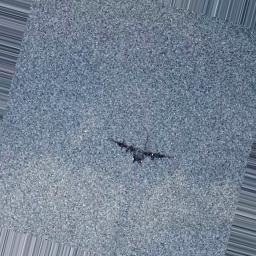Airplane: (111, 138, 173, 165)
